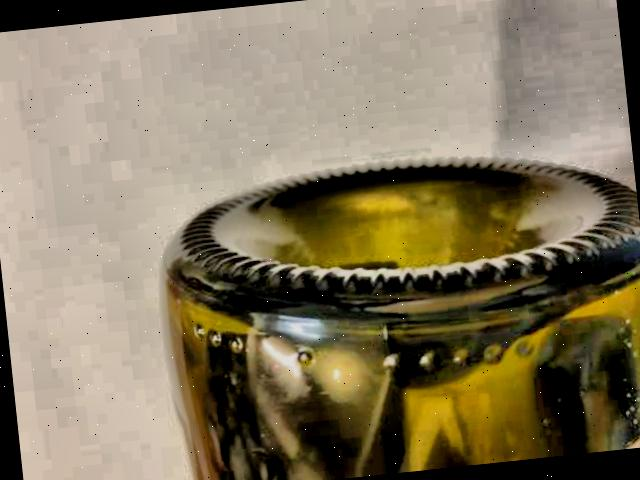Bottles: (147, 125, 640, 480)
